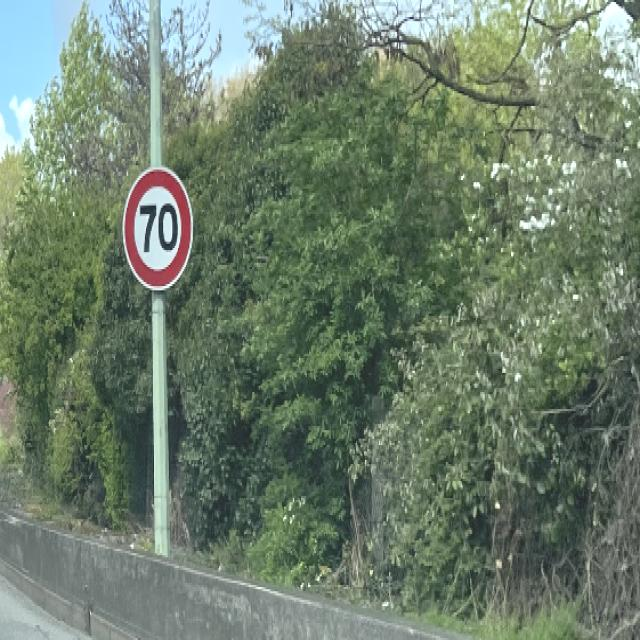speed_70: (122, 163, 194, 293)
